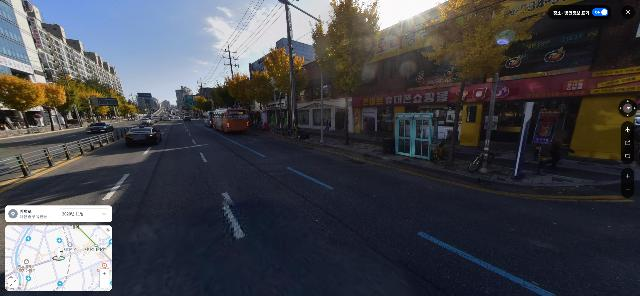ginkgo: (416, 1, 564, 166), (309, 0, 386, 146), (259, 39, 309, 135), (1, 72, 42, 132), (242, 69, 278, 132), (33, 82, 69, 130), (223, 72, 253, 108), (192, 95, 209, 118)
other: (55, 79, 93, 127), (209, 84, 230, 111)
